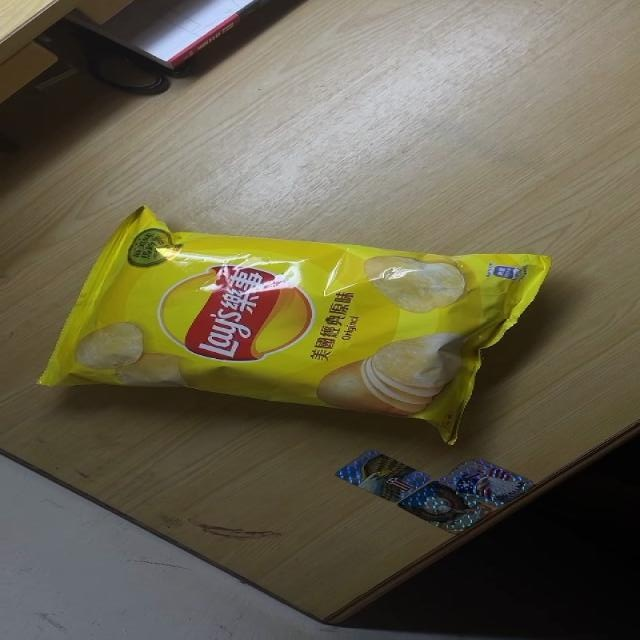Lay-s-original: (31, 204, 556, 444)
